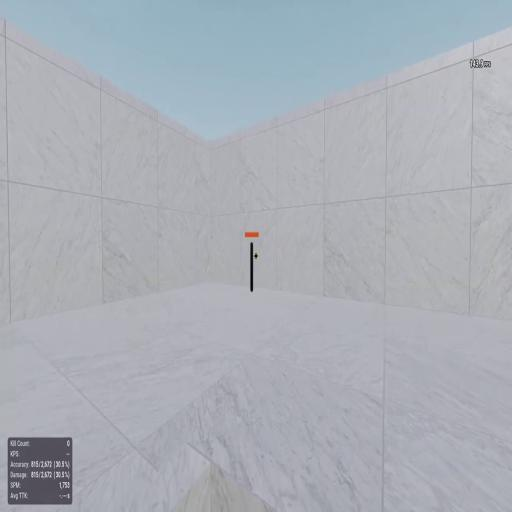Crosshair: (254, 252, 258, 261)
Target: (250, 240, 254, 293)
